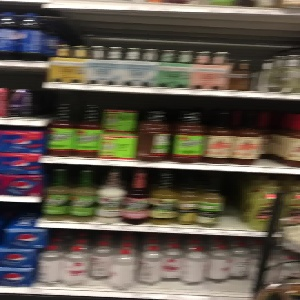void: (217, 172, 249, 229)
